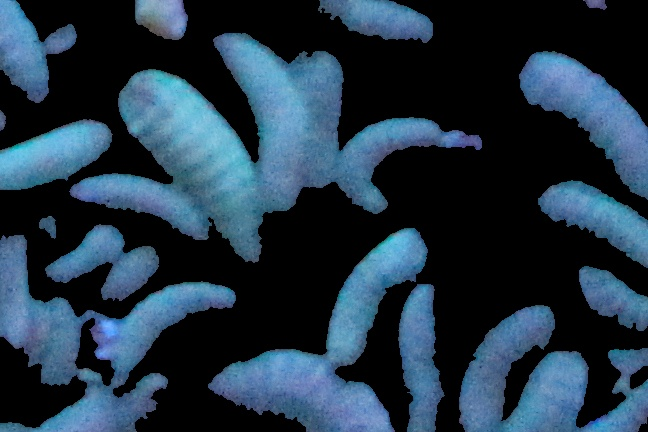larvae: (130, 77, 255, 262), (521, 49, 648, 182), (211, 33, 298, 210), (221, 348, 384, 432), (108, 278, 232, 373), (464, 294, 547, 432), (334, 239, 420, 368), (334, 117, 440, 212), (532, 178, 648, 260), (397, 288, 453, 431), (1, 121, 110, 194), (70, 171, 186, 228), (294, 53, 342, 185), (306, 3, 435, 49), (567, 260, 648, 331), (529, 349, 594, 432), (32, 298, 90, 383), (1, 1, 49, 100), (95, 243, 163, 305), (1, 231, 31, 349), (47, 231, 122, 278), (237, 1, 345, 2)
